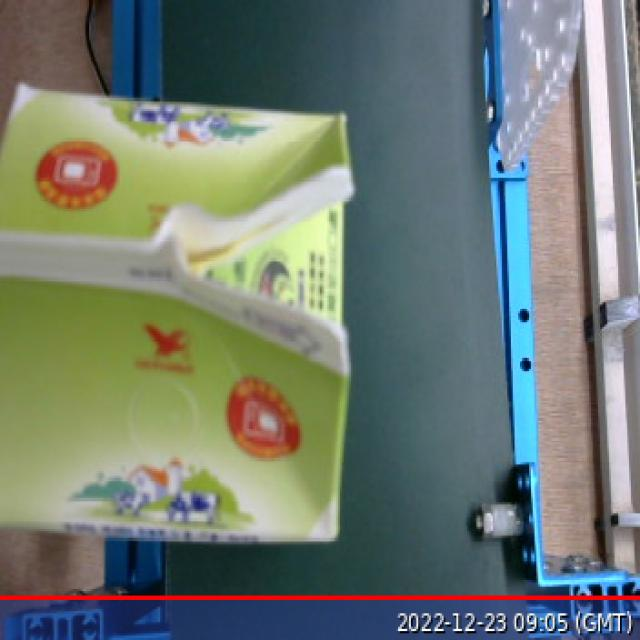non_white_jug: (0, 67, 368, 562)
